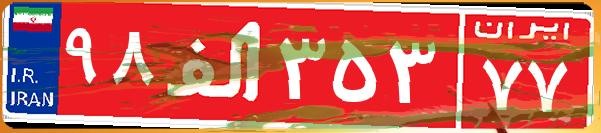3: (385, 28, 445, 110), (273, 28, 330, 110)
5: (330, 28, 385, 110)
7: (475, 38, 525, 113), (525, 38, 570, 115)
8: (110, 28, 158, 105)
9: (57, 26, 110, 107)
الف: (158, 15, 273, 115)
